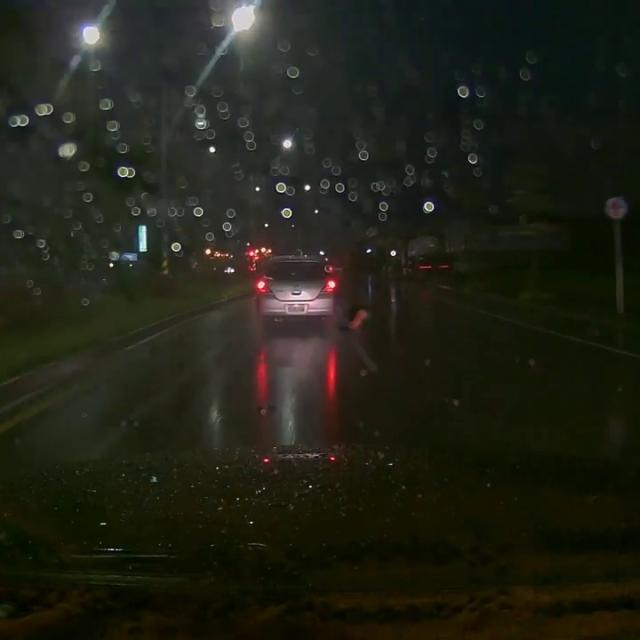Car: (247, 251, 336, 322)
